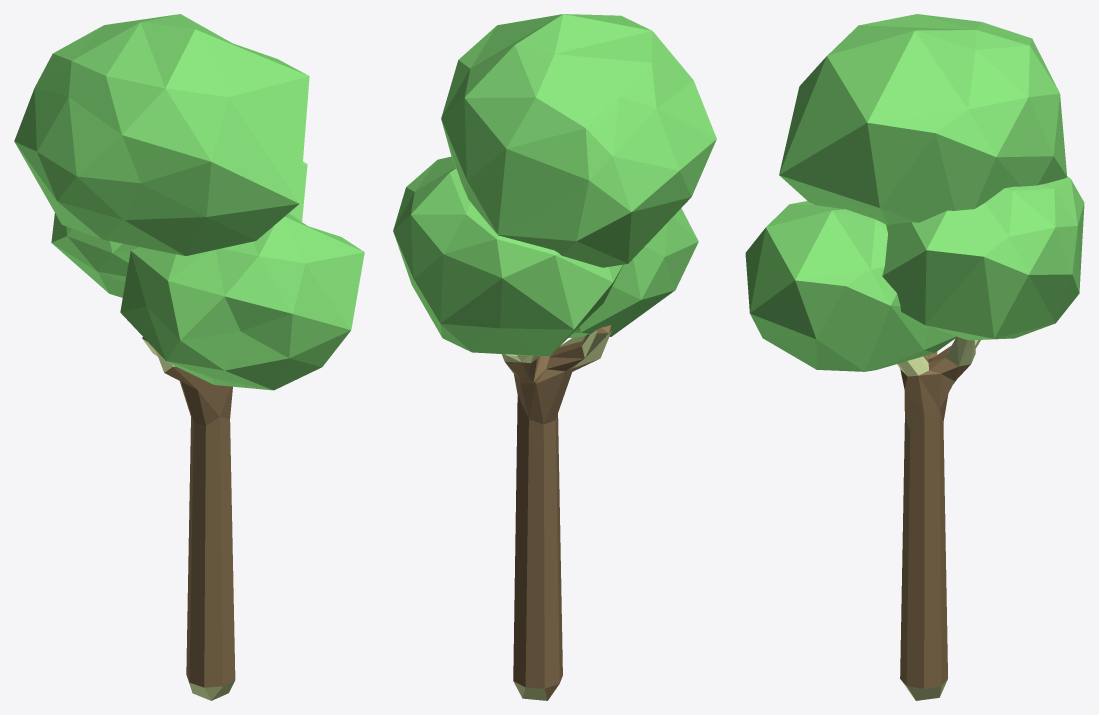
The model's file is VRTreebawah3.fbx.
3 renders of one model, left to right at view 1: azimuth 30°, elevation 25°; view 2: azimuth 150°, elevation 25°; view 3: azimuth 270°, elevation 25°, orthographic. The views are drawn at different scales.
Parts seen in each view (by area): view 1: Treebawah3; view 2: Treebawah3; view 3: Treebawah3.
Boxes of the visible parts, box(x1,y1,x2,y2) form: Treebawah3: box(14, 14, 364, 700); Treebawah3: box(393, 14, 716, 700); Treebawah3: box(745, 14, 1084, 700).
Size of the model in its own units: 267 by 676 by 315.
